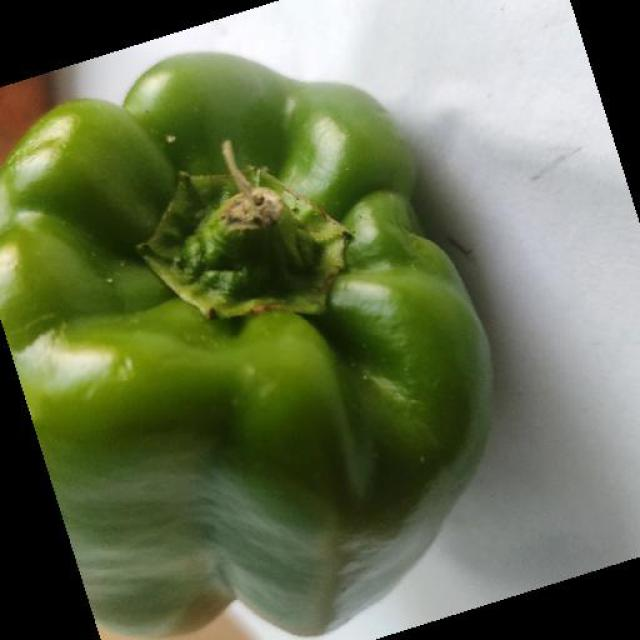Fresh_Capsicum: (0, 73, 461, 640)
